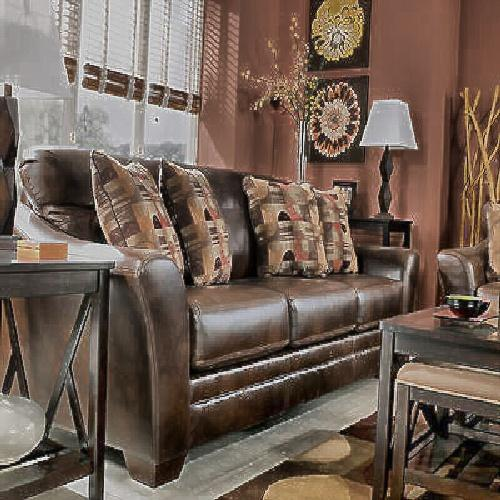sofa: (33, 143, 435, 476)
